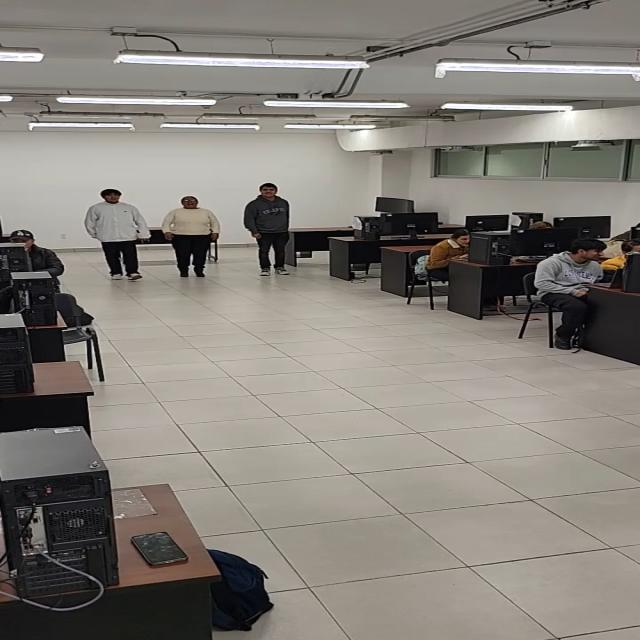Persona: (82, 184, 151, 285), (158, 192, 226, 283), (240, 178, 299, 281)
